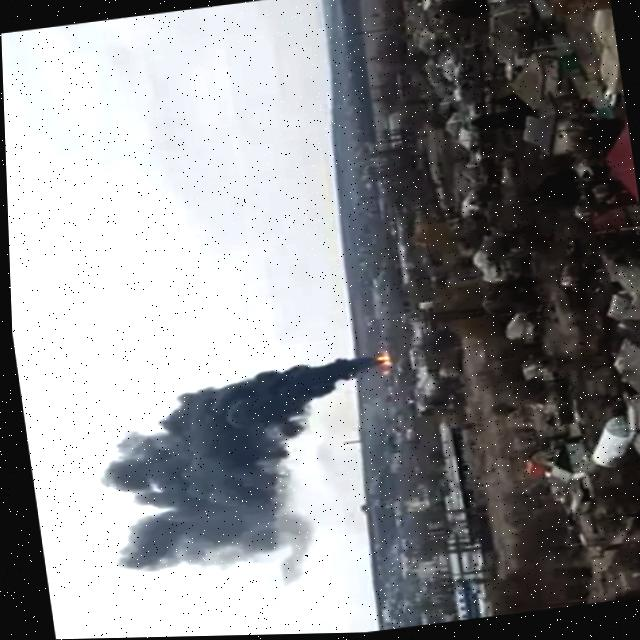Smoke: (79, 329, 400, 599)
